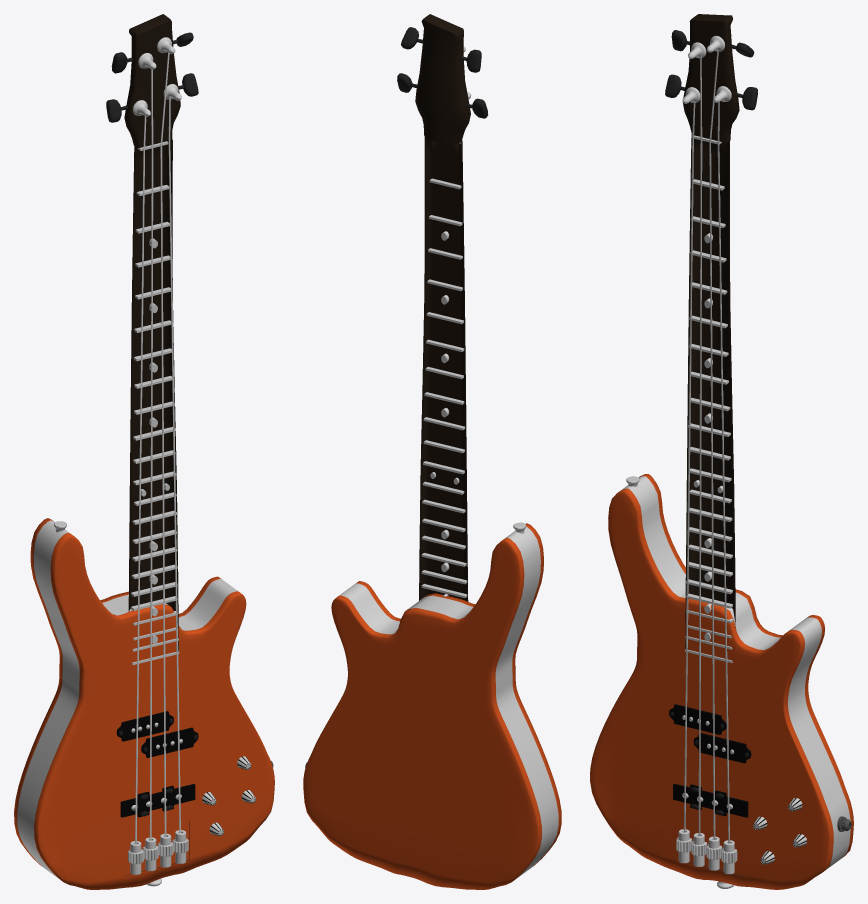
File: musical_bass.obj
3 renders of one model, left to right at view 1: azimuth 30°, elevation 25°; view 2: azimuth 150°, elevation 25°; view 3: azimuth 330°, elevation 25°, orthographic. The views are drawn at different scales.
Parts seen in each view (by area): view 1: Bbody; view 2: Bbody; view 3: Bbody.
Boxes of the visible parts, <box> form: Bbody: <box>14,14,274,889</box>; Bbody: <box>303,14,561,889</box>; Bbody: <box>590,14,853,889</box>.
Bounding box in the file's own units: 0.4942 × 1.67 × 0.1186.
